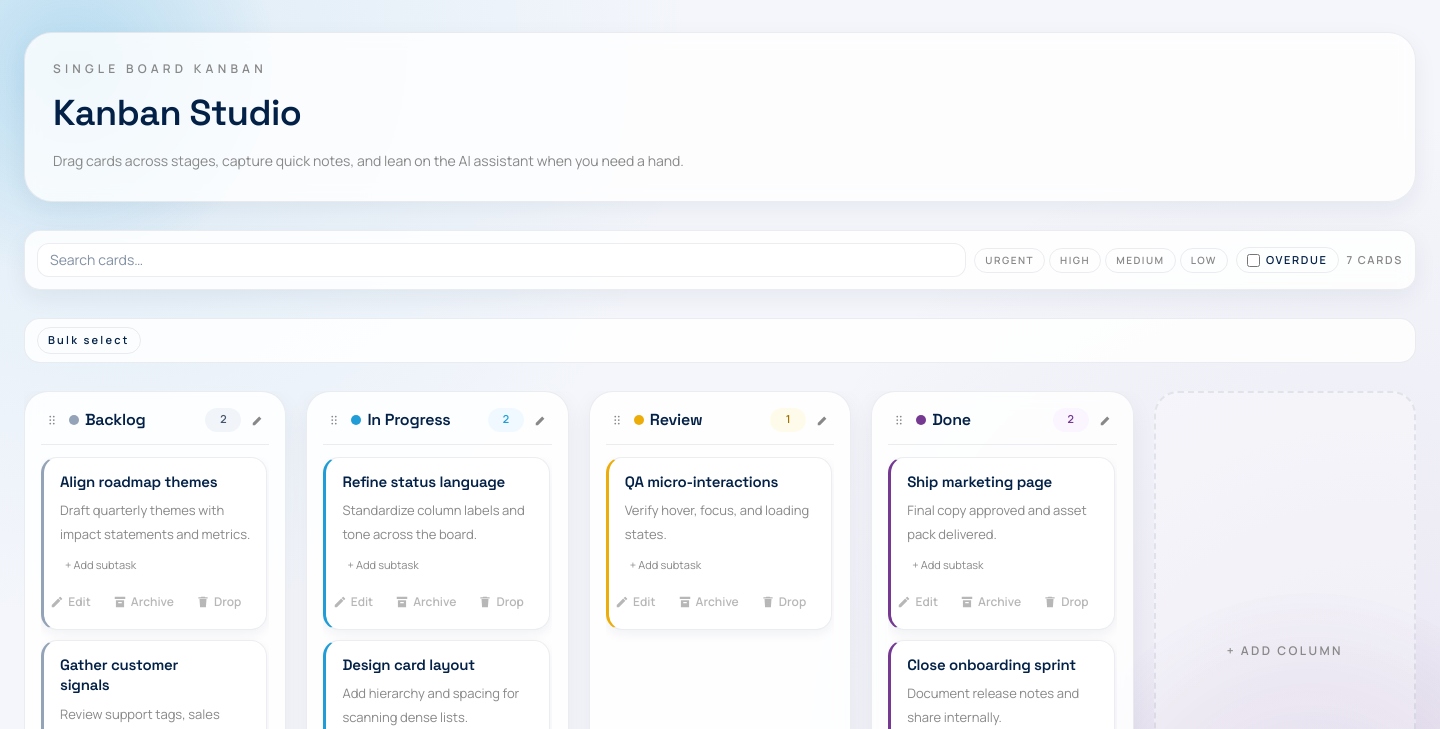
Scenario: KanbanBoard › archives and restores a card via its action button
This screenshot has width=1440, height=729.
Click the button with test id "archive-card-1" at point(143, 602), box [104,589,183,615]
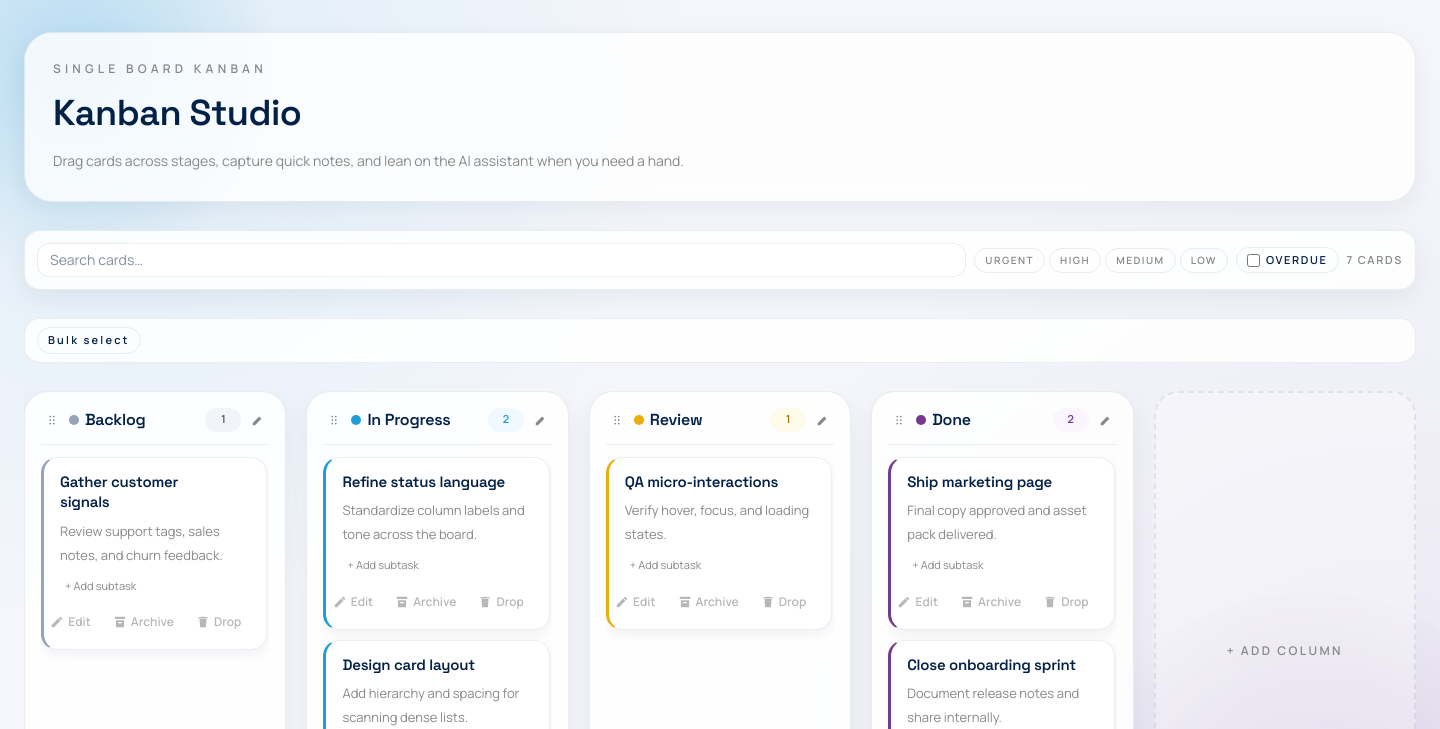
Expected: the button with test id "card-card-1" is gone
